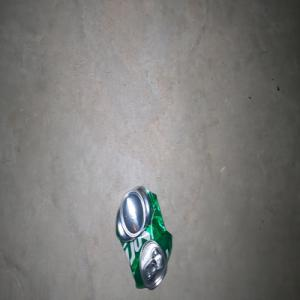SodaCan: (115, 185, 172, 289)
